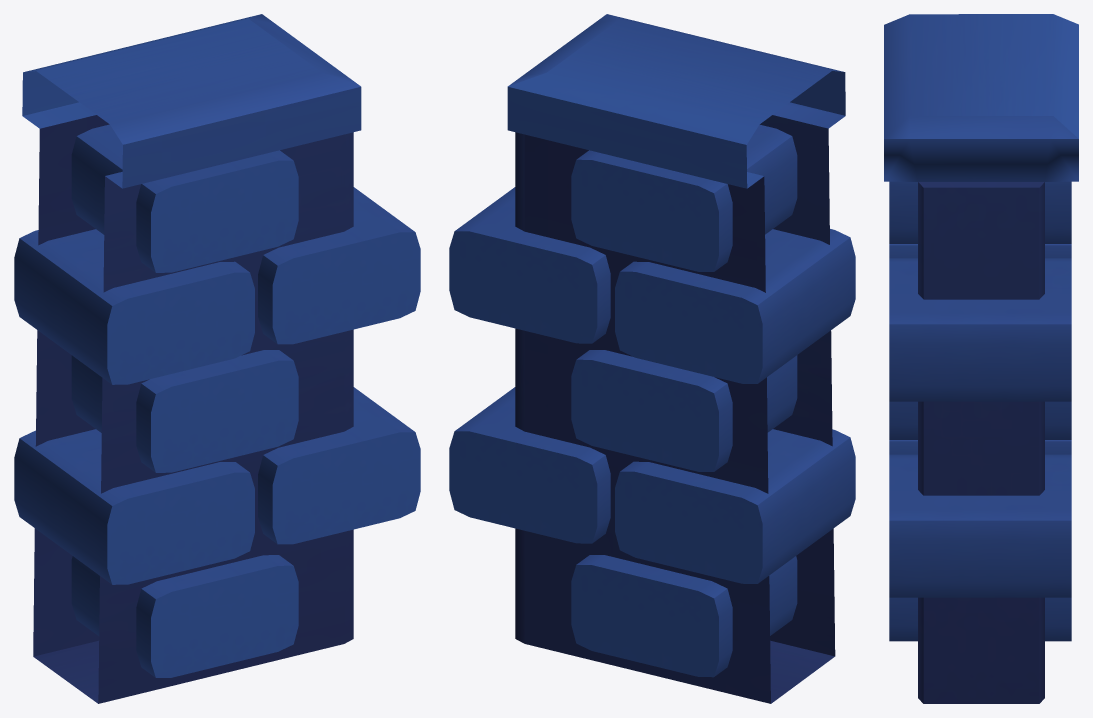
File: wallCorner_conecter_L.fbx
The picture shows the model from 3 angles, left to right: view 1: azimuth 30°, elevation 25°; view 2: azimuth 150°, elevation 25°; view 3: azimuth 270°, elevation 25°; orthographic projection.
Visible parts, largest first — view 1: polySurface277; view 2: polySurface277; view 3: polySurface277.
Boxes of the visible parts, bbox=[...] form: polySurface277: bbox=[14, 14, 420, 703]; polySurface277: bbox=[449, 14, 855, 703]; polySurface277: bbox=[884, 14, 1078, 703].
Size of the model in its own units: 64 by 113 by 35.13.
